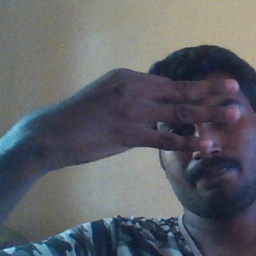K: (48, 67, 244, 156)
